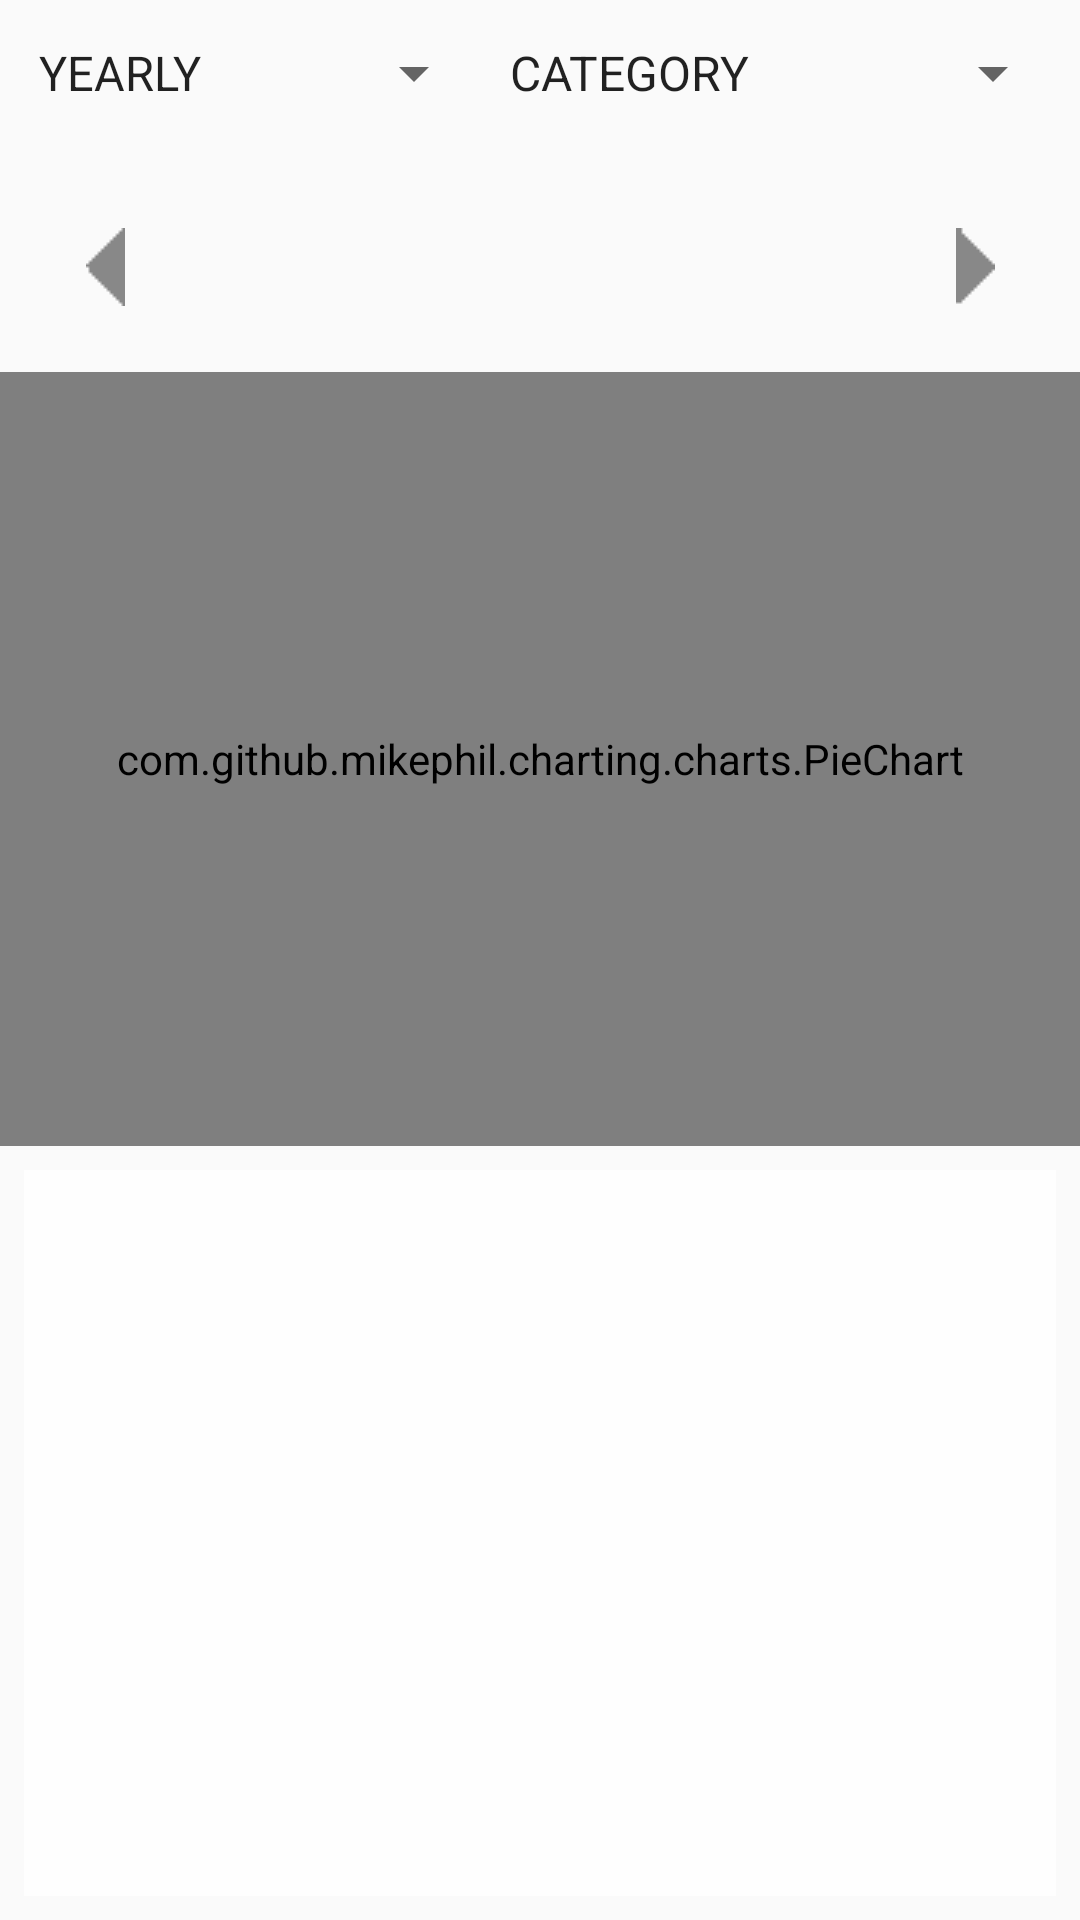

Icon bounding boxes for this 1080 × 1920 phone screenshot, format [x1=x1, y1=y1, x2=x2, y2=y2]:
arrow left: [x1=86, y1=228, x2=125, y2=306]
arrow right: [x1=956, y1=228, x2=995, y2=304]
